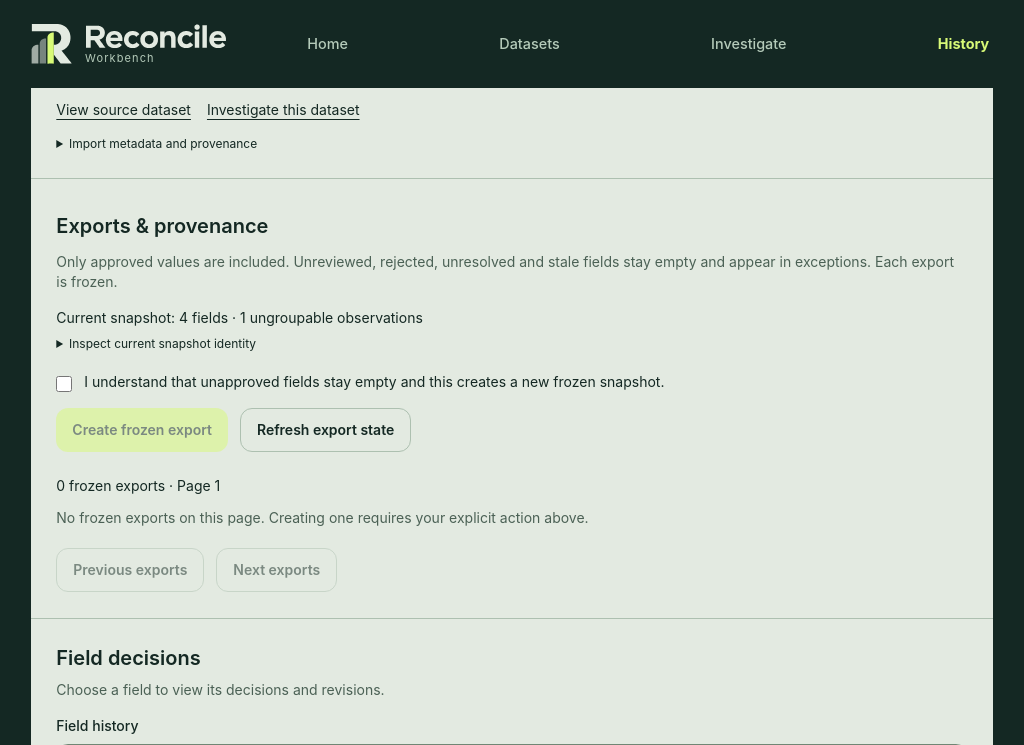
requires explicit acknowledgement and submits a snapshot digest/request ID
(page scrolled)
expect the text "Current snapshot: 4 fields · 1 ungroupable observations" is shown: met, box [56,309,423,326]
expect the button "Create frozen export" is disabled: met, box [56,408,228,452]
Click the checkbox labelled "I understand".
click(64, 384)  # box [56,376,72,392]
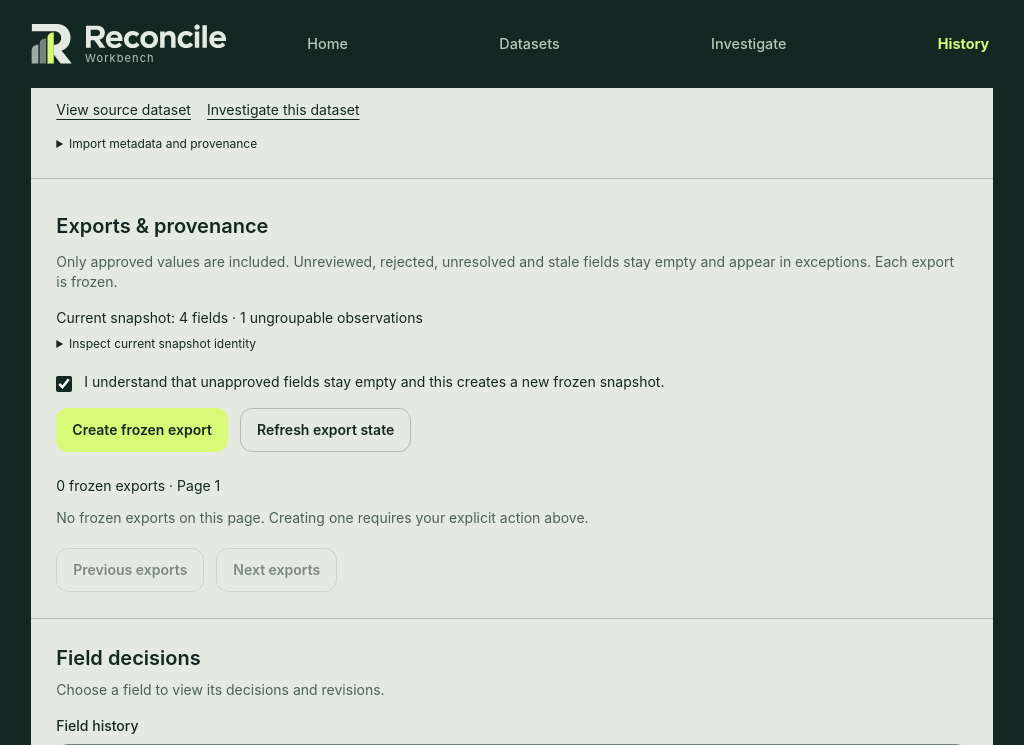
Click the button "Create frozen export".
click(142, 430)  # box [56,408,228,452]
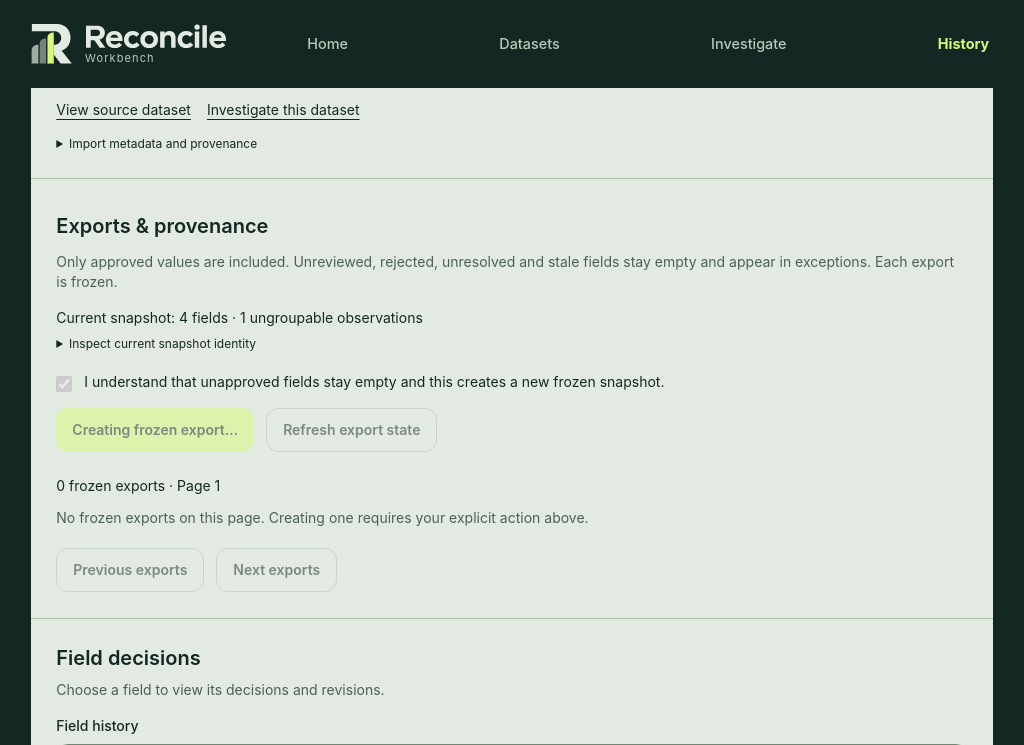
Click the button named "Create frozen export".
click(155, 430)  # box [56,408,254,452]
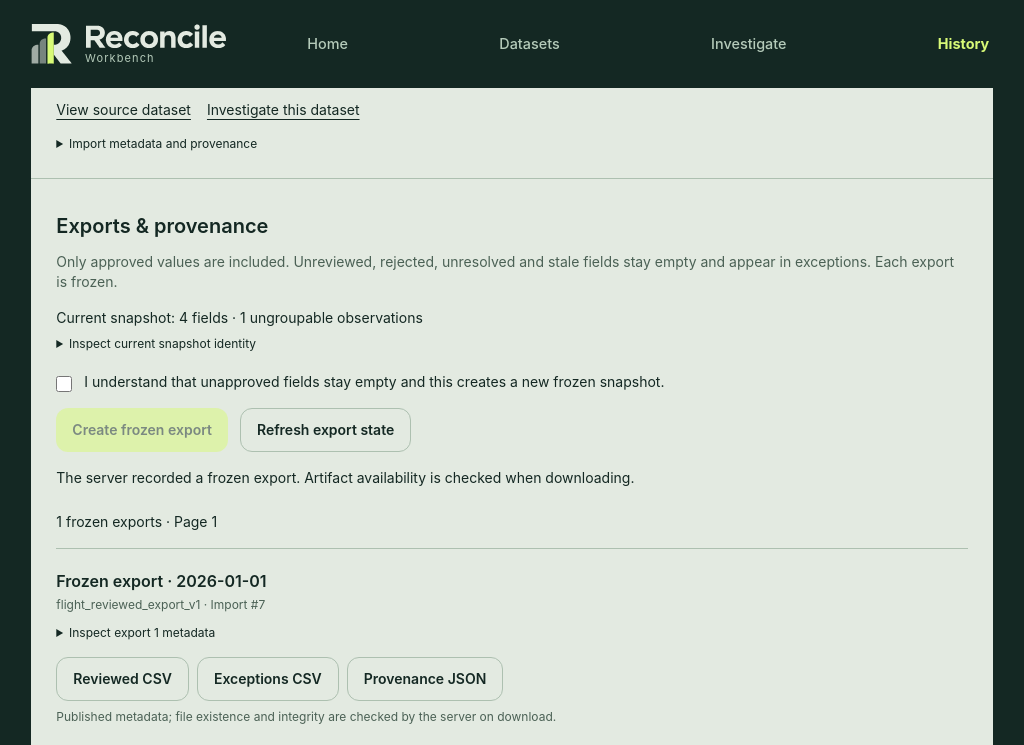
expect the text "server recorded a frozen export" is shown: met, box [56,469,634,486]
expect the text "1 frozen exports · Page 1" is shown: met, box [56,513,217,530]
